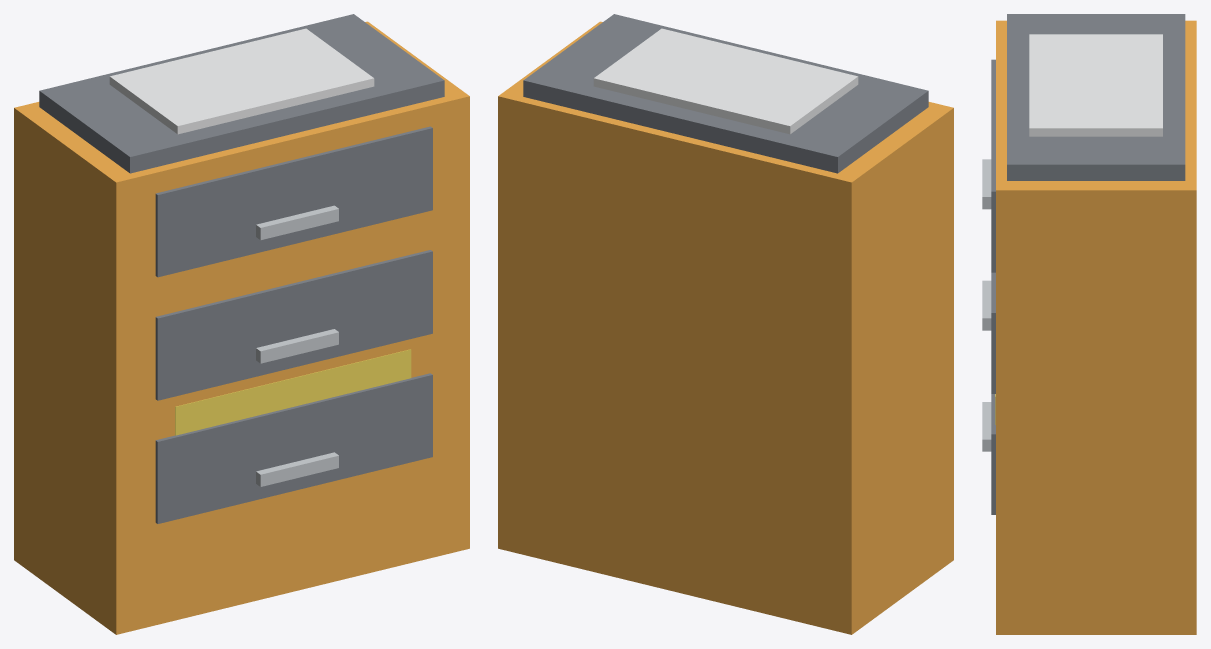
The model's file is parts-bin-cabinet.glb.
The picture shows the model from 3 angles, left to right: view 1: azimuth 30°, elevation 25°; view 2: azimuth 150°, elevation 25°; view 3: azimuth 270°, elevation 25°; orthographic projection.
Visible parts, largest first — view 1: parts-bin-cabinet, drawer-parts/yellow; view 2: parts-bin-cabinet; view 3: parts-bin-cabinet.
Boxes of the visible parts, x1,y1,x2,y2 form: parts-bin-cabinet: [14, 14, 469, 634]; drawer-parts/yellow: [175, 349, 411, 435]; parts-bin-cabinet: [498, 14, 953, 634]; parts-bin-cabinet: [982, 14, 1196, 634].
Size of the model in its own units: 0.9001 by 1.16 by 0.48.
